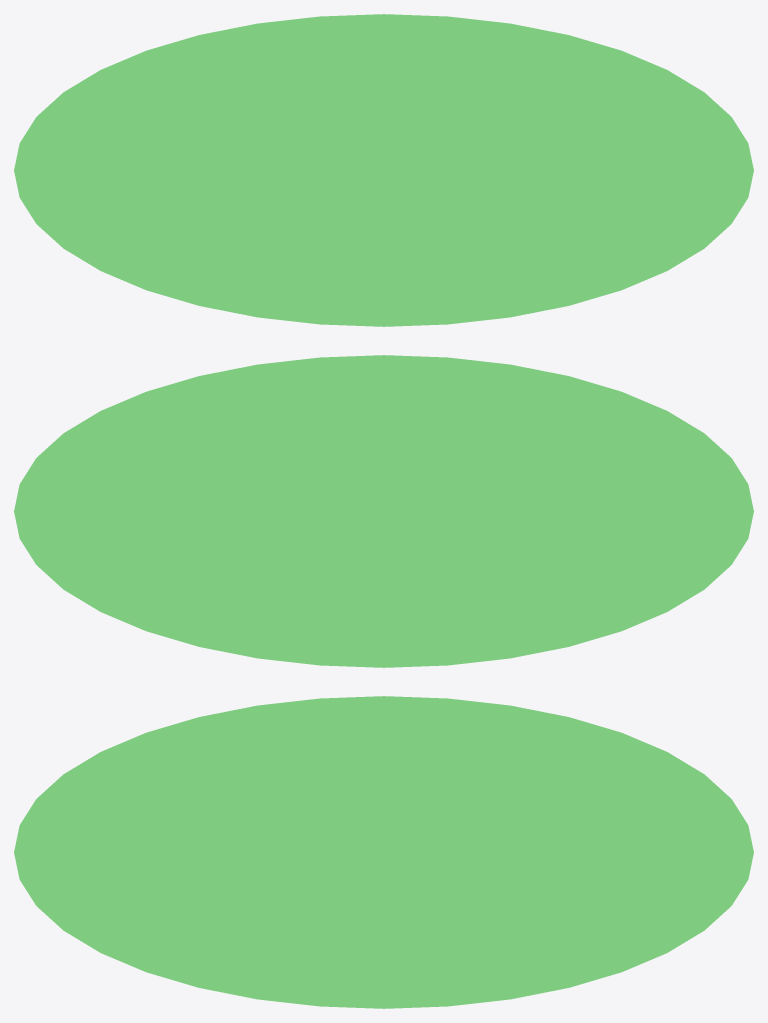
File: glf_course_survey.kcl.glb
3 views of the same model, one above another, from view 1: azimuth 30°, elevation 25°; view 2: azimuth 150°, elevation 25°; view 3: azimuth 270°, elevation 25° (orthographic).
Parts seen in each view (by area): view 1: collision_0x0001; view 2: collision_0x0001; view 3: collision_0x0001.
Part boxes in pixels (<box>): collision_0x0001: <box>14,14,753,326</box>; collision_0x0001: <box>14,355,753,667</box>; collision_0x0001: <box>14,696,753,1008</box>.
Bounding box in the file's own units: 9144 × 0 × 9144.
